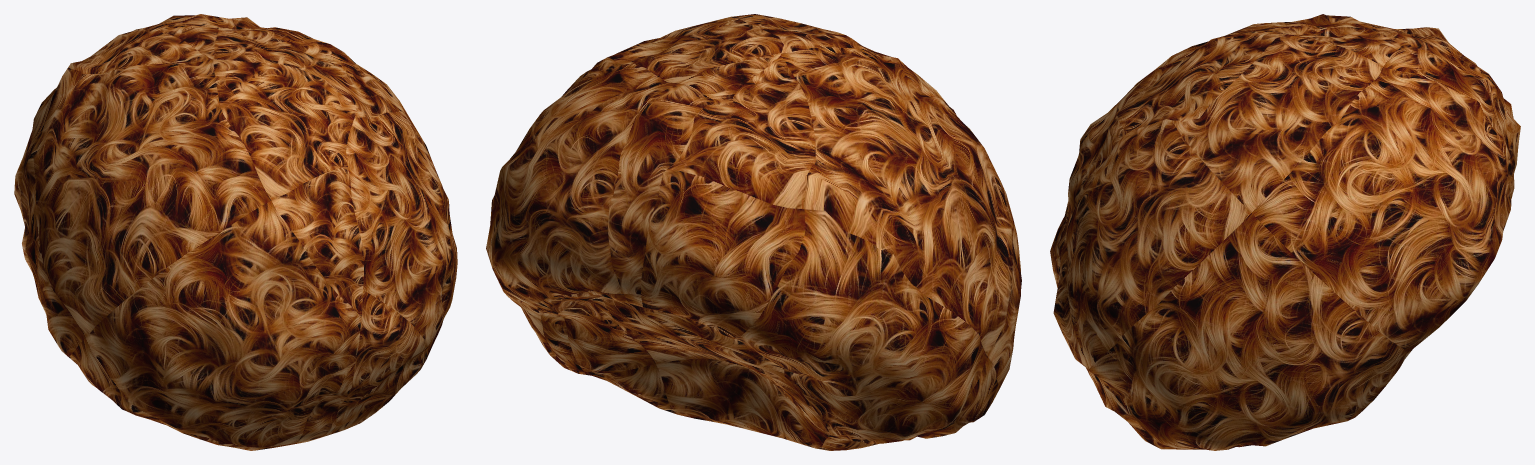
File: Hair.fbx
3 views of the same model, side by side, from view 1: azimuth 30°, elevation 25°; view 2: azimuth 150°, elevation 25°; view 3: azimuth 270°, elevation 25° (orthographic). The views are drawn at different scales.
Visible parts, largest first — view 1: Hair Fall; view 2: Hair Fall; view 3: Hair Fall.
Part boxes in pixels (x1,y1,x2,y2): Hair Fall: (14,14,457,450); Hair Fall: (486,14,1021,450); Hair Fall: (1050,14,1520,450).
Size of the model in its own units: 145 by 129 by 146.
1 material, 1 textured.
